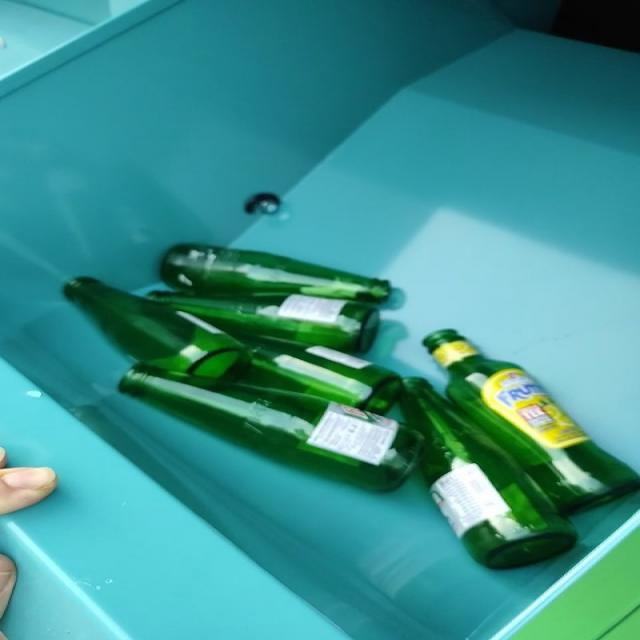glass: (67, 244, 637, 569)
